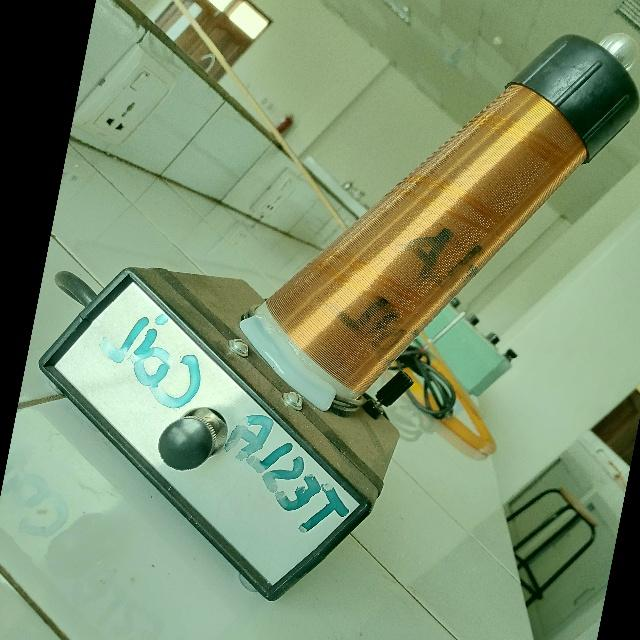Tesla Coil: (0, 0, 640, 620)
